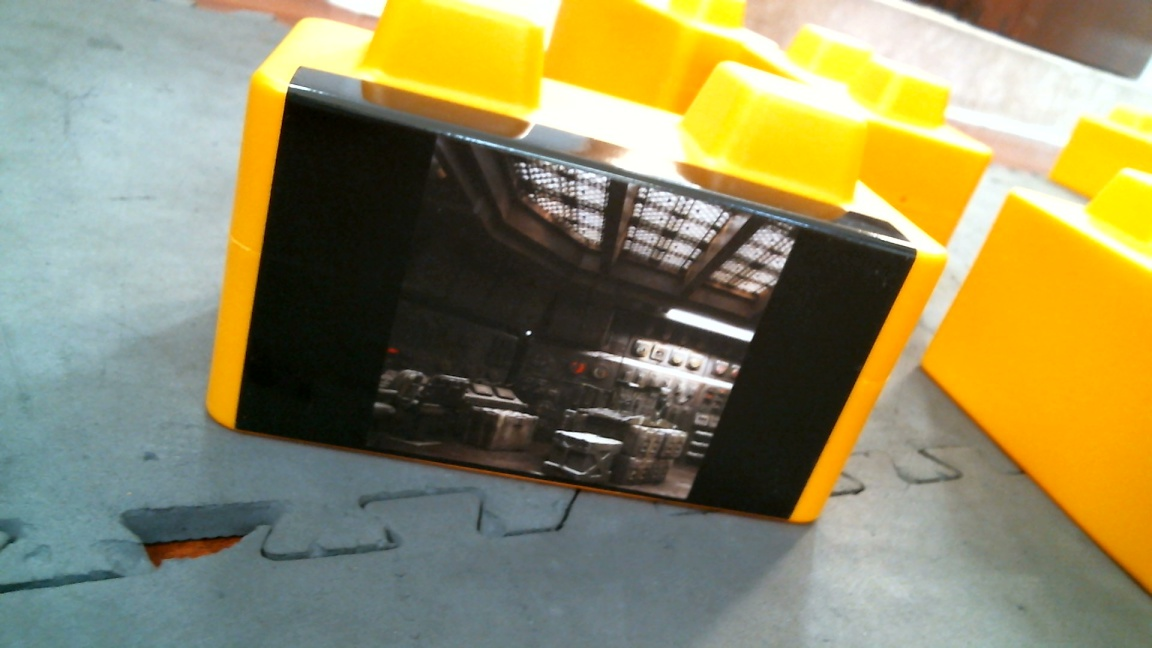stone: (202, 1, 946, 566)
